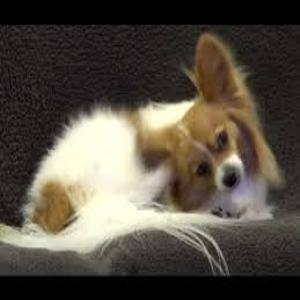yell: (0, 32, 281, 253)
